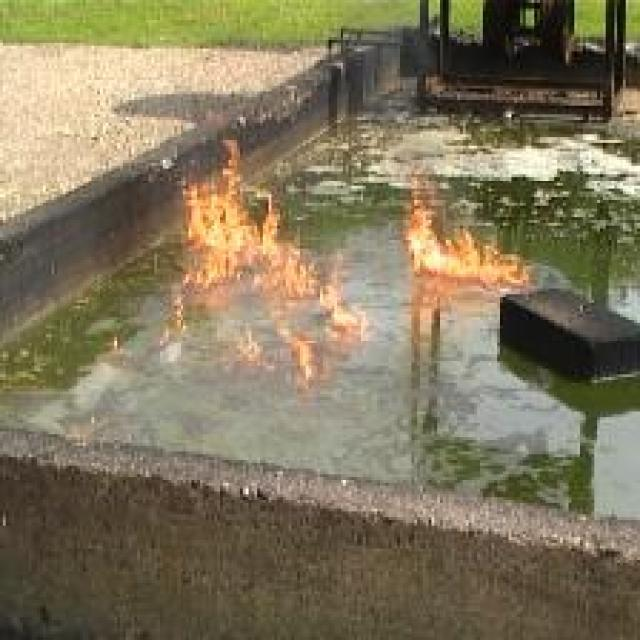Fire: (172, 140, 368, 377), (404, 167, 532, 284)
